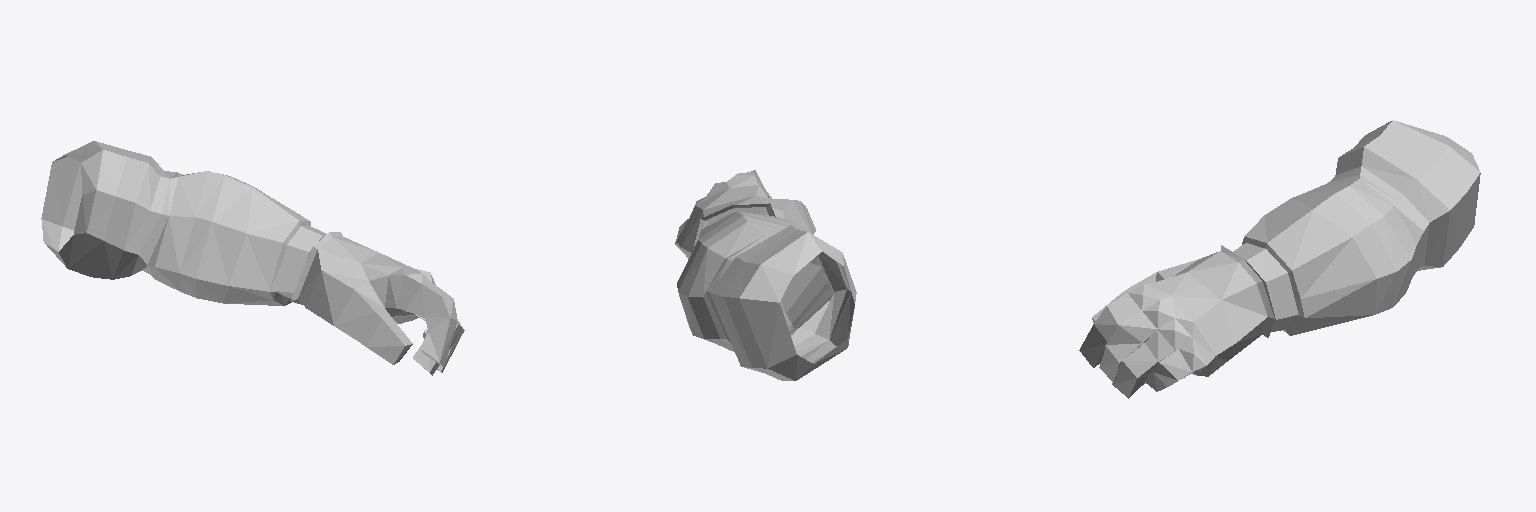
Rendered from brazo izq.obj.
3 views of the same model, side by side, from view 1: azimuth 30°, elevation 25°; view 2: azimuth 150°, elevation 25°; view 3: azimuth 270°, elevation 25° (orthographic).
Parts seen in each view (by area): view 1: default002; view 2: default002; view 3: default002.
Boxes of the visible parts, x1,y1,x2,y2 form: default002: [41, 141, 464, 375]; default002: [675, 170, 856, 380]; default002: [1079, 120, 1480, 398].
Size of the model in its own units: 25.26 by 15.47 by 31.68.